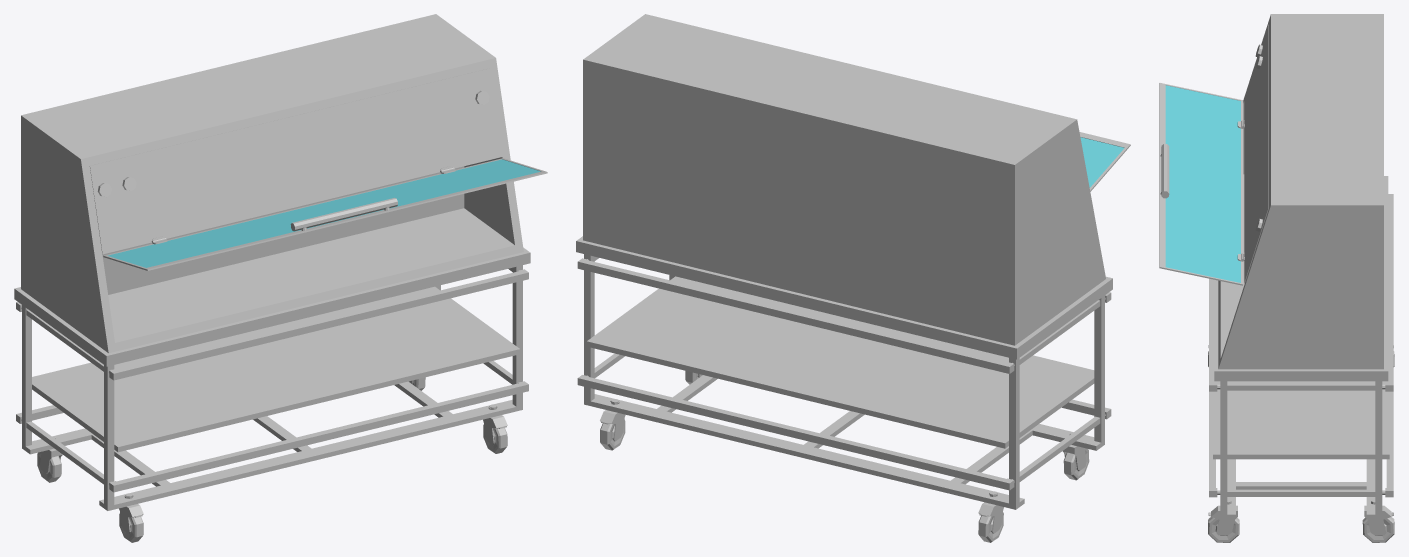
The model's file is SM_Research_Table_01.gltf.
3 views of the same model, side by side, from view 1: azimuth 30°, elevation 25°; view 2: azimuth 150°, elevation 25°; view 3: azimuth 270°, elevation 25° (orthographic). The views are drawn at different scales.
Parts seen in each view (by area): view 1: SM_Research_Table_01, SM_Windows; view 2: SM_Research_Table_01, SM_Windows; view 3: SM_Research_Table_01, SM_Windows.
Part boxes in pixels (<box>): SM_Research_Table_01: <box>14,14,530,542</box>; SM_Windows: <box>103,158,547,270</box>; SM_Research_Table_01: <box>576,14,1112,542</box>; SM_Windows: <box>1079,132,1130,191</box>; SM_Research_Table_01: <box>1208,14,1394,542</box>; SM_Windows: <box>1159,83,1243,285</box>.
Bounding box in the file's own units: 2.04 × 1.7 × 1.04.
